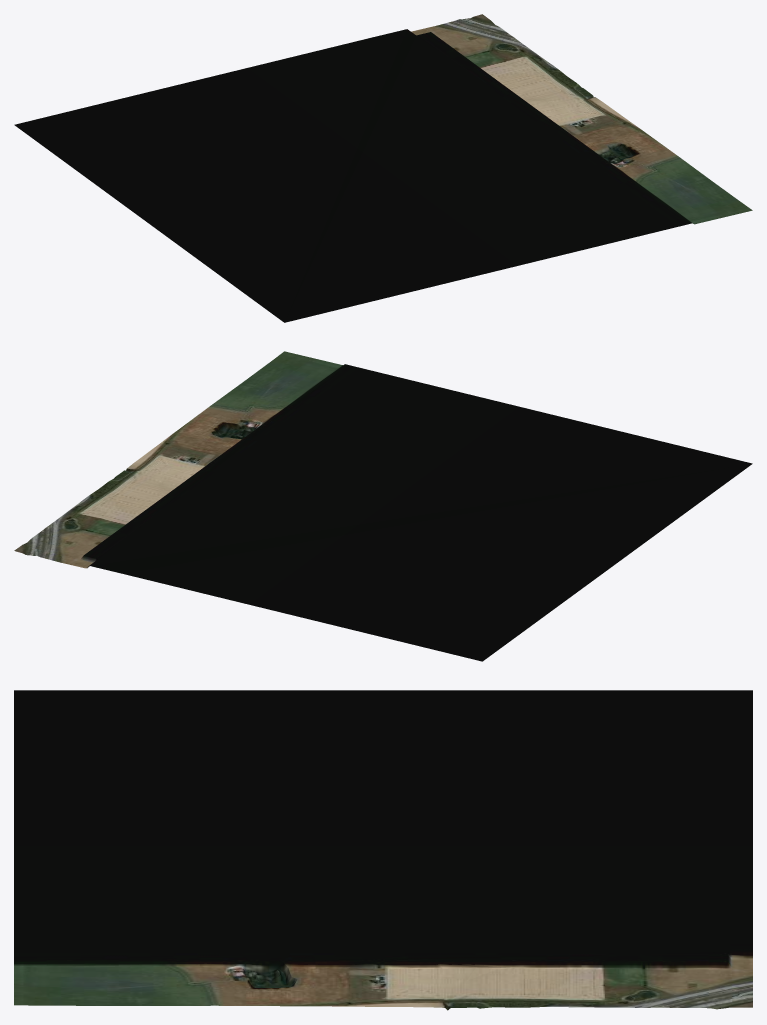
The model's file is map_10_247_423.dae.
3 renders of one model, top to bottom at view 1: azimuth 30°, elevation 25°; view 2: azimuth 150°, elevation 25°; view 3: azimuth 270°, elevation 25°, orthographic. The views are drawn at different scales.
Visible parts, largest first — view 1: Ter0; view 2: Ter0; view 3: Ter0.
Boxes of the visible parts, x1,y1,x2,y2 form: Ter0: (14,14,752,322); Ter0: (14,351,752,661); Ter0: (14,690,752,1010).
Bounding box in the file's own units: 2044 × 2044 × 32.88.
Materials: 3 (3 with a texture image).
